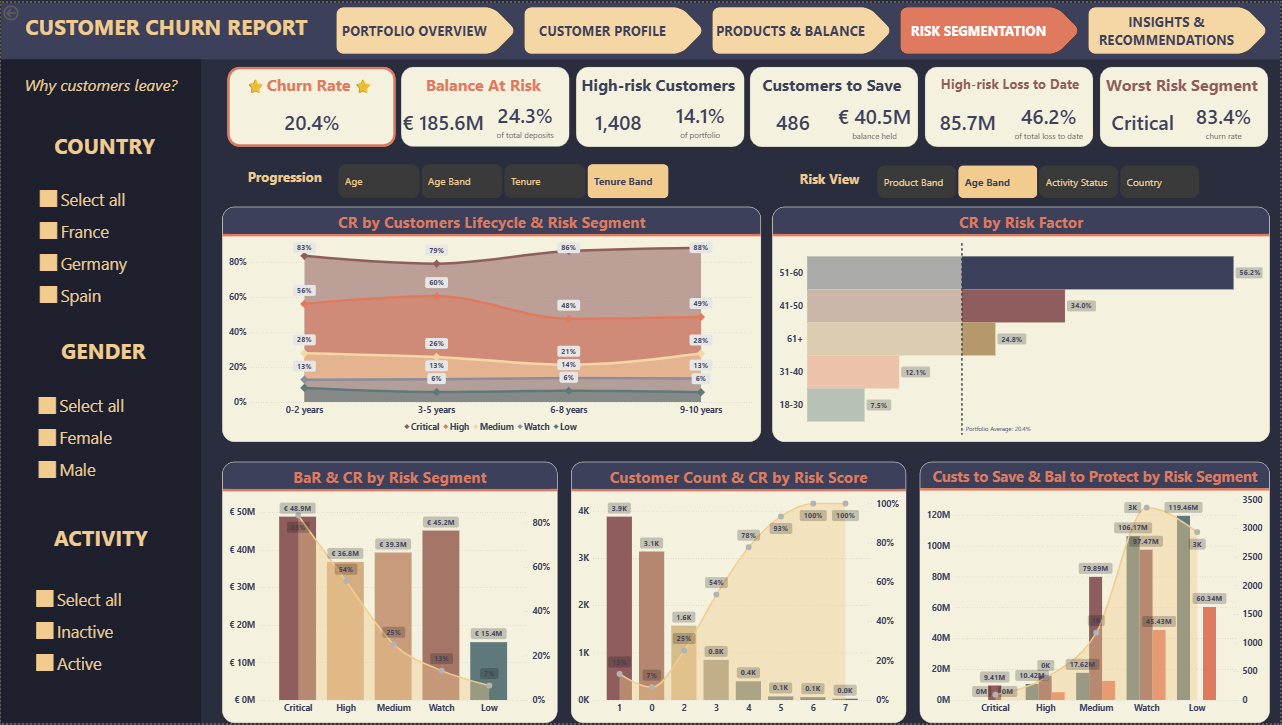

Layout of this report page (visuals, bound fields, positions):
{"tool":"powerbi","page":{"name":"RISK SEGMENTATION","canvas":[2560,1440],"ordinal":3},"visuals":[{"type":"group","id":"g1","title":"Group 2","box":[0,78,400,1362],"z":0},{"type":"textbox","box":[472,325.2,190.8,58.7],"z":0,"group":"g12"},{"type":"shape","box":[0,78,400,1362],"z":500,"group":"g1"},{"type":"shape","box":[0,0,2560,112.5],"z":1000},{"type":"shape","box":[1146.9,128,337,160.6],"z":1000,"group":"g6"},{"type":"shape","box":[799,128.5,337,160.1],"z":1000,"group":"g4"},{"type":"shape","box":[1494.7,128.5,336.9,160.6],"z":1000,"group":"g7"},{"type":"shape","box":[1845.6,128.5,337,160.6],"z":1000,"group":"g8"},{"type":"shape","box":[2194.9,128.5,337,160.6],"z":1000,"group":"g9"},{"type":"shape","box":[450.6,129.2,337,160.2],"z":1000,"group":"g11"},{"type":"textbox","box":[1585,326.3,145,60],"z":1000,"group":"g5"},{"type":"pageNavigator","box":[670,8.3,1866.7,95],"z":2000},{"type":"advancedSlicerVisual","fields":{"Values":["Progression.Progression"]},"box":[668.5,316.7,670.1,78.3],"z":2000,"group":"g12"},{"type":"group","id":"g2","title":"Group 5","box":[0,12.5,662.5,90],"z":3000},{"type":"textbox","box":[67.5,250,280,87.5],"z":3000,"group":"g1"},{"type":"advancedSlicerVisual","fields":{"Values":["Risk View.Risk View"]},"box":[1747.5,319.4,655,75],"z":3000,"group":"g5"},{"type":"group","id":"g3","title":"Group 4","box":[444,128,2088,164],"z":4000},{"type":"group","id":"g4","title":"Group 1","box":[792.4,128.5,343.7,160.1],"z":5000,"group":"g3"},{"type":"textbox","box":[1140.3,137.6,343.7,73.5],"z":5000,"group":"g6"},{"type":"textbox","box":[792.4,138,343.7,73.3],"z":5000,"group":"g4"},{"type":"textbox","box":[1488.1,138.1,343.6,73.5],"z":5000,"group":"g7"},{"type":"textbox","box":[2188.3,138.1,343.7,73.5],"z":5000,"group":"g9"},{"type":"textbox","box":[444,138.7,343.7,73.3],"z":5000,"group":"g11"},{"type":"textbox","box":[1848.5,139.5,336,70],"z":5000,"group":"g8"},{"type":"group","id":"g5","title":"Group 6","box":[1585,319.4,817.5,75],"z":5000},{"type":"slicer","fields":{"Values":["Dim_Geography.Geography"]},"box":[65,360,280,265],"z":5000,"group":"g1"},{"type":"group","id":"g6","title":"Group 1","box":[1140.3,128,344.1,160.6],"z":6000,"group":"g14"},{"type":"group","id":"g7","title":"Group 1","box":[1488.1,128.5,343.6,160.6],"z":6000,"group":"g13"},{"type":"group","id":"g8","title":"Group 1","box":[1845.6,128.5,338.9,162.3],"z":6000,"group":"g16"},{"type":"group","id":"g9","title":"Group 1","box":[2188.3,128.5,343.7,160.6],"z":6000,"group":"g15"},{"type":"group","id":"g10","title":"Group 3","box":[444,129.2,344.7,162.8],"z":6000,"group":"g3"},{"type":"group","id":"g11","title":"Group 1","box":[444,129.2,344.7,162.8],"z":6000,"group":"g10"},{"type":"group","id":"g12","title":"Group 7","box":[472,316.7,866.6,78.3],"z":6000},{"type":"areaChart","title":"CR by Customers Lifecycle & Risk Segment","fields":{"Category":["Dim_TenureBand.TenureBand"],"Series":["Dim_RiskSegment.RiskSegment"],"Y":["_Measures.Churn Rate %"]},"box":[442.5,407.5,1077.5,470],"z":7000},{"type":"clusteredBarChart","title":"CR by Risk Factor","fields":{"Category":["Dim_AgeBand.Age_Band"],"Y":["_Measures.Churn Rate %"]},"box":[1542.5,407.5,995,470],"z":8000},{"type":"textbox","box":[67.5,660,275,87.5],"z":8000,"group":"g1"},{"type":"slicer","fields":{"Values":["Dim_Gender.Gender"]},"box":[62.5,772.5,275,205],"z":9000,"group":"g1"},{"type":"lineClusteredColumnComboChart","title":"BaR & CR by Risk Segment","fields":{"Category":["Dim_RiskSegment.RiskSegment"],"Y":["_Measures.Balance at Risk"],"Y2":["_Measures.Churn Rate %"]},"box":[442.5,917.5,670,522.5],"z":9000},{"type":"lineClusteredColumnComboChart","title":"Customer Count & CR by Risk Score","fields":{"Category":["Fact_Customer.Risk_Score"],"Y":["_Measures.Total Customers"],"Y2":["_Measures.Churn Rate %"]},"box":[1140,917.5,670,522.5],"z":10000},{"type":"textbox","box":[0,137.5,400,130],"z":11000,"group":"g1"},{"type":"lineClusteredColumnComboChart","title":"Custs to Save & Bal to Protect by Risk Segment","fields":{"Category":["Dim_RiskSegment.RiskSegment"],"Series":["Dim_Geography.Geography"],"Y":["_Measures.Retained Balance"],"Y2":["_Measures.Retained Customers"]},"box":[1837.5,917.5,700,522.5],"z":11000},{"type":"actionButton","box":[0,0,100,40],"z":12000},{"type":"textbox","box":[0,12.5,662.5,90],"z":12000,"group":"g2"},{"type":"group","id":"g13","title":"Group 3","box":[1488.1,128.5,343.6,160.6],"z":12000,"group":"g3"},{"type":"group","id":"g14","title":"Group 3","box":[1140.3,128,344.1,160.6],"z":13000,"group":"g3"},{"type":"textbox","box":[60,1035,280,87],"z":13000,"group":"g1"},{"type":"group","id":"g15","title":"Group 3","box":[2188.3,128.5,343.7,160.6],"z":14000,"group":"g3"},{"type":"slicer","fields":{"Values":["Dim_ActivityStatus.Activity_Status"]},"box":[57.5,1160,280,197.5],"z":15000,"group":"g1"},{"type":"group","id":"g16","title":"Group 3","box":[1845.6,128.5,338.9,162.3],"z":16000,"group":"g3"},{"type":"cardVisual","fields":{"Data":["_Measures.Churn Rate %"]},"box":[454.6,184.9,334.1,107.1],"z":16000,"group":"g11"},{"type":"cardVisual","fields":{"Data":["_Measures.Balance at Risk","_Measures.Balance at Risk %"]},"box":[796.3,185.7,338.1,101.1],"z":16000,"group":"g4"},{"type":"cardVisual","fields":{"Data":["_Measures.Customers to Save","_Measures.Balance to Protect"]},"box":[1494.6,185.7,336.1,103.1],"z":16000,"group":"g7"},{"type":"cardVisual","fields":{"Data":["_Measures.Addressable Loss","_Measures.Addressable Loss %"]},"box":[1845.7,185.7,334.1,105.1],"z":16000,"group":"g8"},{"type":"cardVisual","fields":{"Data":["_Measures.Worst Risk Segment","_Measures.Worst Risk Segment Value"]},"box":[2196.2,185.7,334.1,103.1],"z":16000,"group":"g9"},{"type":"cardVisual","fields":{"Data":["_Measures.Priority Customers","_Measures.Priority Customer %"]},"box":[1146.3,186.2,338.1,101.1],"z":16000,"group":"g6"}]}

Visuals, with their boxes in screenshot pixels (x1, y1, x2, y2), scaled from the page's 2560x1440 canvas onto the 1282x725 screenshot:
"Group 2" group: bbox=(0, 39, 200, 724)
textbox: bbox=(236, 164, 332, 193)
shape: bbox=(0, 39, 200, 724)
shape: bbox=(0, 0, 1281, 57)
shape: bbox=(574, 64, 743, 145)
shape: bbox=(400, 65, 569, 145)
shape: bbox=(749, 65, 917, 146)
shape: bbox=(924, 65, 1093, 146)
shape: bbox=(1099, 65, 1268, 146)
shape: bbox=(226, 65, 394, 146)
textbox: bbox=(794, 164, 866, 194)
pageNavigator: bbox=(336, 4, 1270, 52)
advancedSlicerVisual - Progression.Progression: bbox=(335, 159, 670, 199)
"Group 5" group: bbox=(0, 6, 332, 52)
textbox: bbox=(34, 126, 174, 170)
advancedSlicerVisual - Risk View.Risk View: bbox=(875, 161, 1203, 199)
"Group 4" group: bbox=(222, 64, 1268, 147)
"Group 1" group: bbox=(397, 65, 569, 145)
textbox: bbox=(571, 69, 743, 106)
textbox: bbox=(397, 69, 569, 106)
textbox: bbox=(745, 70, 917, 107)
textbox: bbox=(1096, 70, 1268, 107)
textbox: bbox=(222, 70, 394, 107)
textbox: bbox=(926, 70, 1094, 105)
"Group 6" group: bbox=(794, 161, 1203, 199)
slicer - Dim_Geography.Geography: bbox=(33, 181, 173, 315)
"Group 1" group: bbox=(571, 64, 743, 145)
"Group 1" group: bbox=(745, 65, 917, 146)
"Group 1" group: bbox=(924, 65, 1094, 146)
"Group 1" group: bbox=(1096, 65, 1268, 146)
"Group 3" group: bbox=(222, 65, 395, 147)
"Group 1" group: bbox=(222, 65, 395, 147)
"Group 7" group: bbox=(236, 159, 670, 199)
"CR by Customers Lifecycle & Risk Segment" areaChart: bbox=(222, 205, 761, 442)
"CR by Risk Factor" clusteredBarChart: bbox=(772, 205, 1271, 442)
textbox: bbox=(34, 332, 172, 376)
slicer - Dim_Gender.Gender: bbox=(31, 389, 169, 492)
"BaR & CR by Risk Segment" lineClusteredColumnComboChart: bbox=(222, 462, 557, 724)
"Customer Count & CR by Risk Score" lineClusteredColumnComboChart: bbox=(571, 462, 906, 724)
textbox: bbox=(0, 69, 200, 135)
"Custs to Save & Bal to Protect by Risk Segment" lineClusteredColumnComboChart: bbox=(920, 462, 1271, 724)
actionButton: bbox=(0, 0, 50, 20)
textbox: bbox=(0, 6, 332, 52)
"Group 3" group: bbox=(745, 65, 917, 146)
"Group 3" group: bbox=(571, 64, 743, 145)
textbox: bbox=(30, 521, 170, 565)
"Group 3" group: bbox=(1096, 65, 1268, 146)
slicer - Dim_ActivityStatus.Activity_Status: bbox=(29, 584, 169, 683)
"Group 3" group: bbox=(924, 65, 1094, 146)
cardVisual - _Measures.Churn Rate %: bbox=(228, 93, 395, 147)
cardVisual - _Measures.Balance at Risk x _Measures.Balance at Risk %: bbox=(399, 93, 568, 144)
cardVisual - _Measures.Customers to Save x _Measures.Balance to Protect: bbox=(748, 93, 917, 145)
cardVisual - _Measures.Addressable Loss x _Measures.Addressable Loss %: bbox=(924, 93, 1092, 146)
cardVisual - _Measures.Worst Risk Segment x _Measures.Worst Risk Segment Value: bbox=(1100, 93, 1267, 145)
cardVisual - _Measures.Priority Customers x _Measures.Priority Customer %: bbox=(574, 94, 743, 145)
